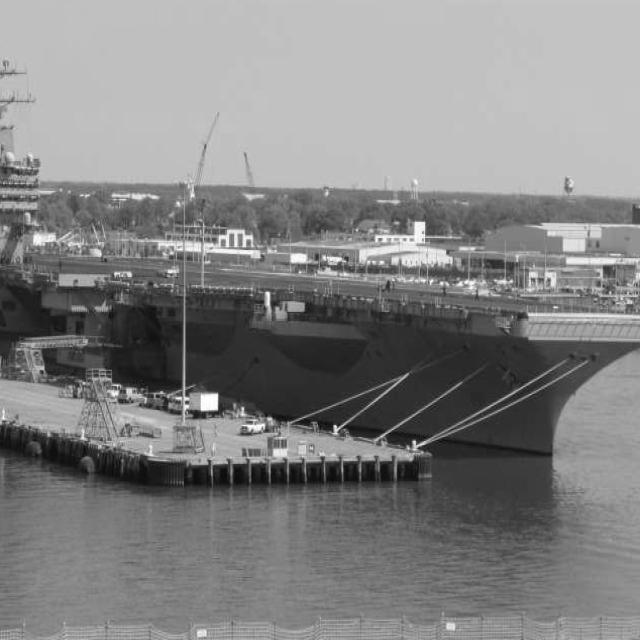Portanaves: (1, 4, 640, 476)
